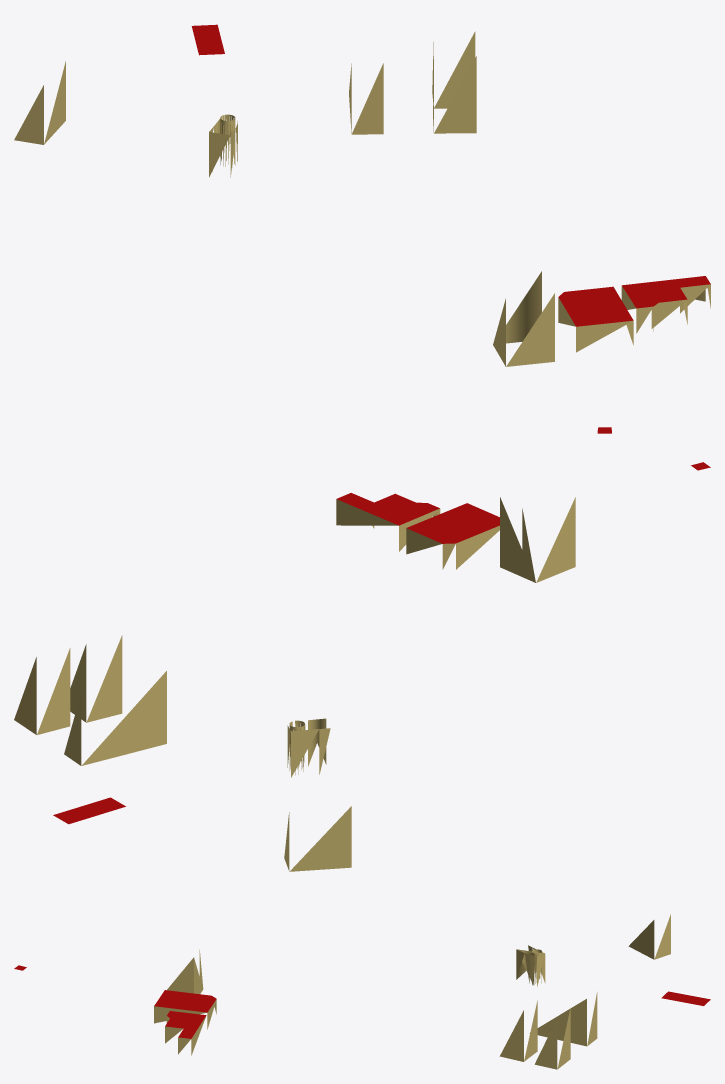
3 views of the same model, one above another, from view 1: azimuth 30°, elevation 25°; view 2: azimuth 150°, elevation 25°; view 3: azimuth 270°, elevation 25° (orthographic). The views are drawn at different scales.
Bounding box in the file's own units: 360 × 67.5 × 821.
